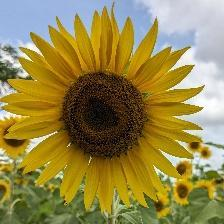sunflower: (12, 12, 194, 209)
